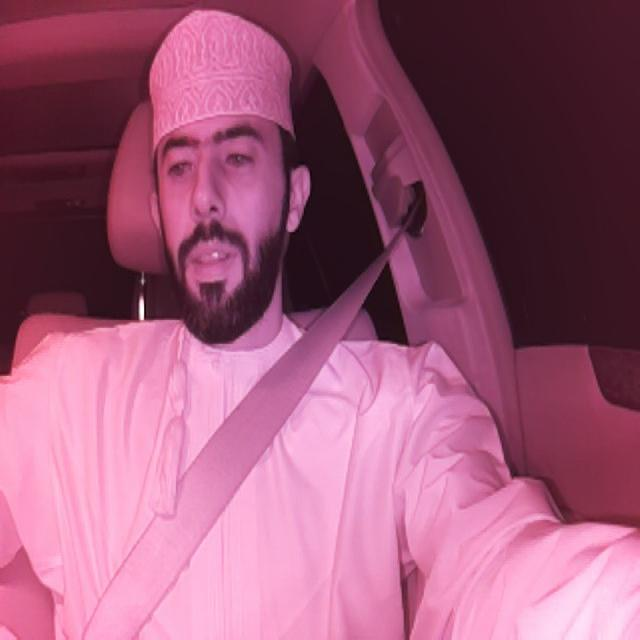seatbelt: (82, 198, 419, 638)
